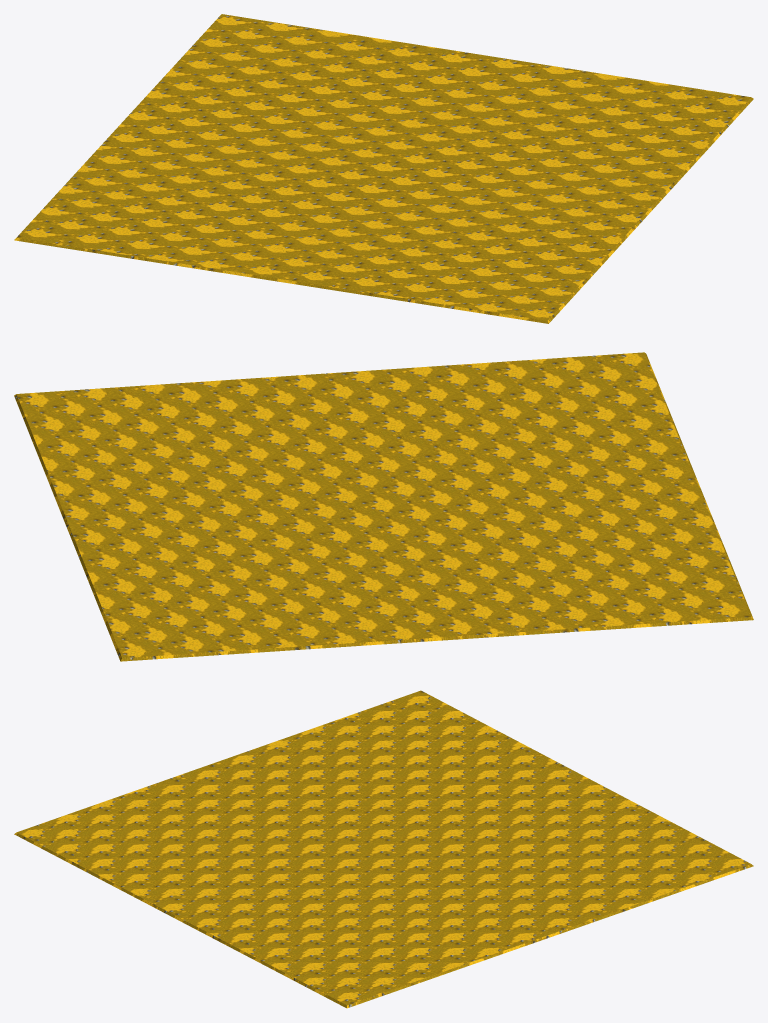
Rendered from floor.glb.
3 views of the same model, one above another, from view 1: azimuth 30°, elevation 25°; view 2: azimuth 150°, elevation 25°; view 3: azimuth 270°, elevation 25° (orthographic). The views are drawn at different scales.
Visible parts, largest first — view 1: floor; view 2: floor; view 3: floor.
Part boxes in pixels (x1,y1,x2,y2): floor: (14,14,753,323); floor: (14,352,753,661); floor: (14,690,753,1008).
Bounding box in the file's own units: 2739 × 8 × 2701.
Materials: 1 (1 with a texture image).
